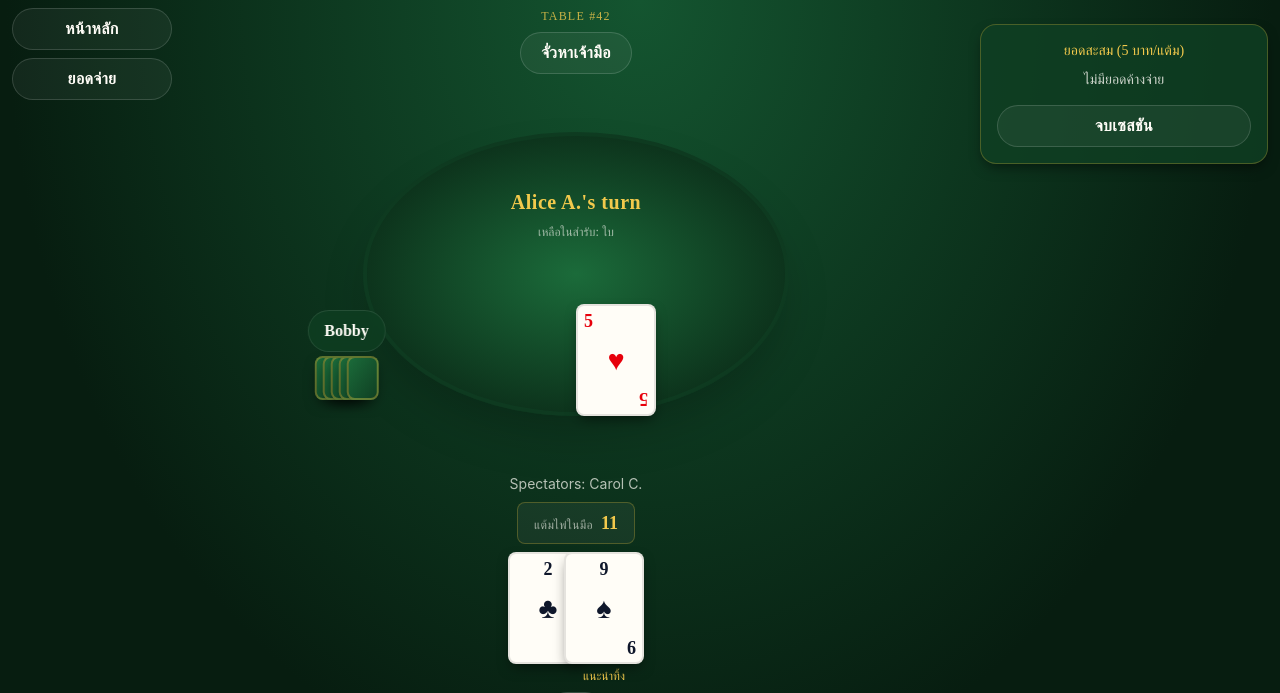
Test: Table screen › the first-dealer reveal is manual: hidden until you click จั่วหาเจ้ามือ, and never appears on its own
Click the button "จั่วหาเจ้ามือ": (576, 53) [520,32,632,74]
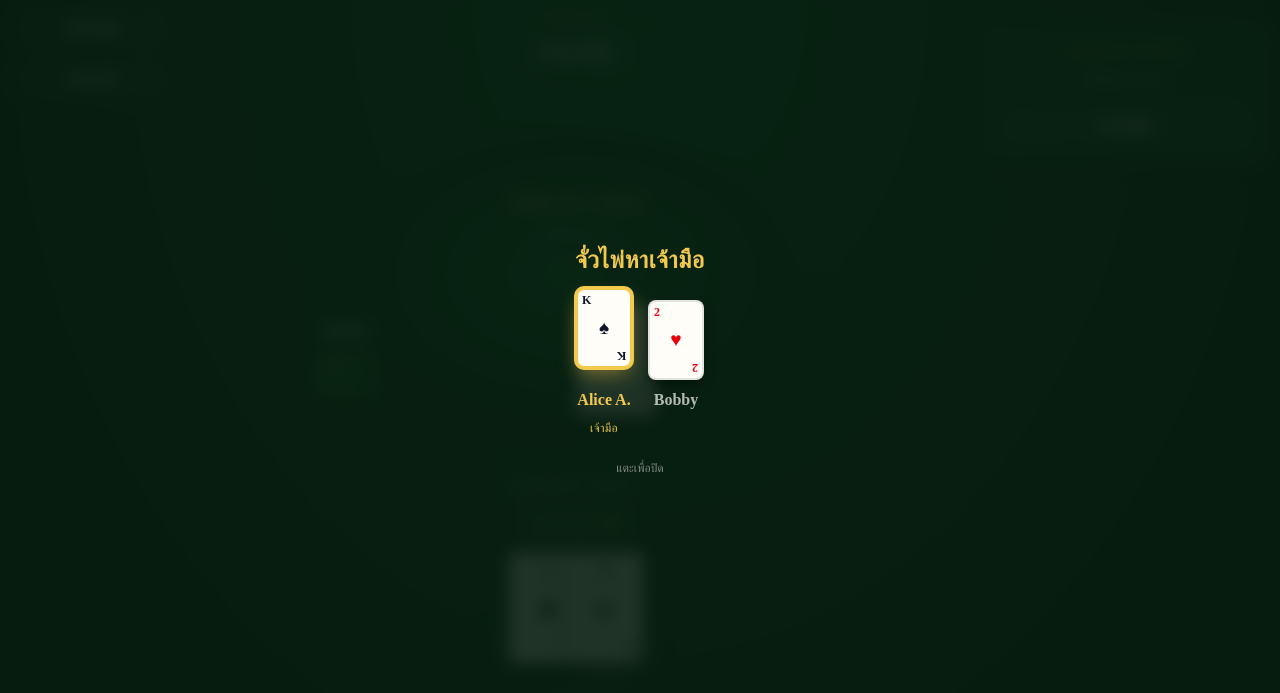
Result: the text "เจ้ามือ" is shown at [590,420,618,436]
